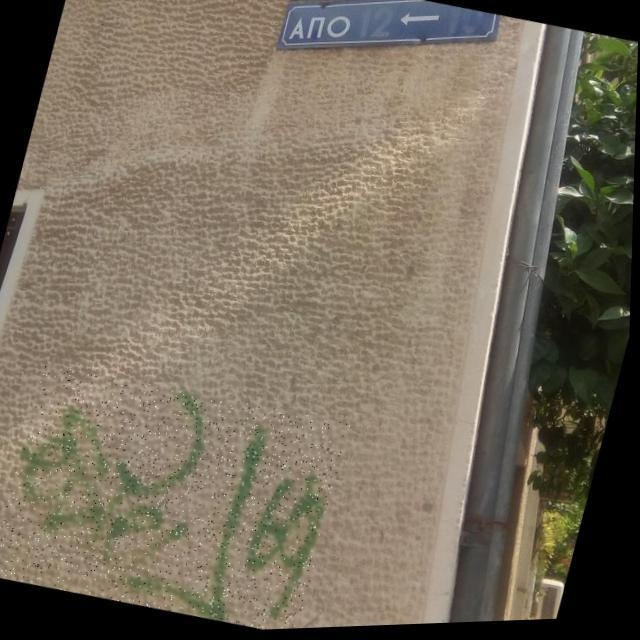-: (0, 354, 354, 640)
